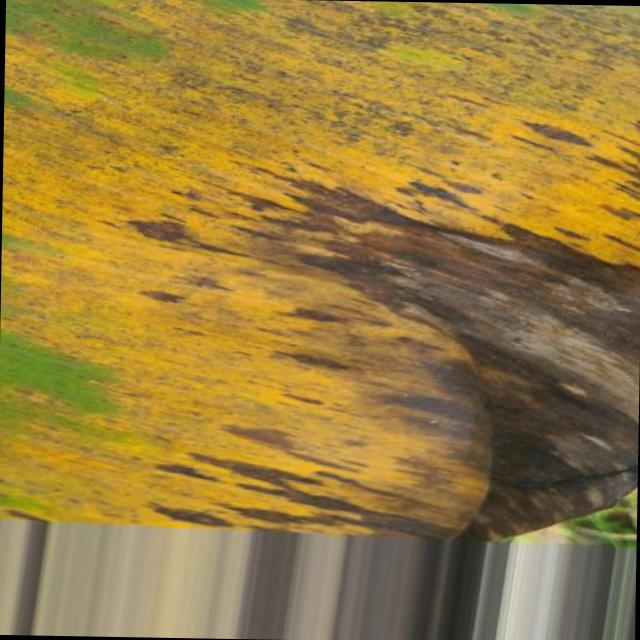Banana_Black_Sigatoka: (187, 140, 640, 557), (224, 2, 640, 185)
